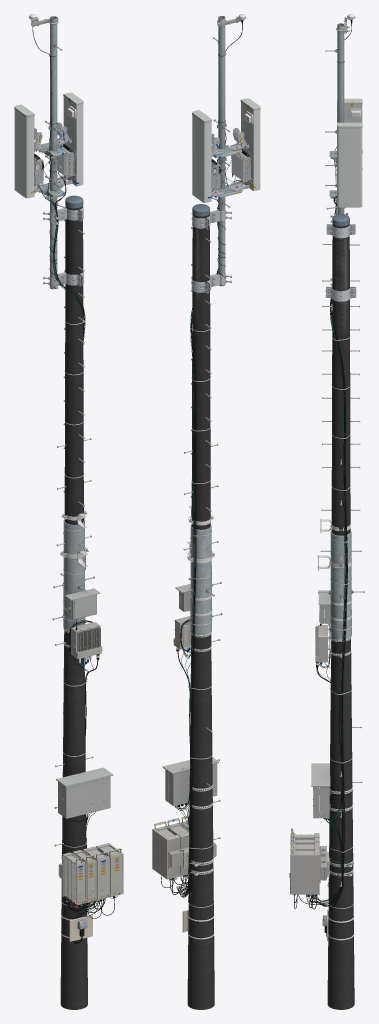
Rendered from Site A001.glb.
3 renders of one model, left to right at view 1: azimuth 30°, elevation 25°; view 2: azimuth 210°, elevation 25°; view 3: azimuth 270°, elevation 25°, orthographic. The views are drawn at different scales.
Visible parts, largest first — view 1: Main _Pole_01, polySurface9658, Radio_Heads, MMT_Box, Cellular_Antenna_02, Upper_Pole, Main _Pole_02, Cellular_Antenna_01, RF_Cable_BOX, Junction_Box, RRU_01; view 2: Main _Pole_01, polySurface9658, Radio_Heads, Main _Pole_02, Cellular_Antenna_01, Upper_Pole, Cellular_Antenna_02, MMT_Box, RRU_02, RF_Cable_BOX, Junction_Box; view 3: Main _Pole_01, polySurface9658, Cellular_Antenna_01, Radio_Heads, Main _Pole_02, MMT_Box, Upper_Pole, RF_Cable_BOX, Junction_Box, Cellular_Antenna_02.
Boxes of the visible parts, x1,y1,x2,y2 form: Main _Pole_01: (60, 206, 87, 1009); polySurface9658: (28, 14, 121, 943); Radio_Heads: (58, 843, 123, 905); MMT_Box: (56, 767, 113, 818); Cellular_Antenna_02: (14, 104, 34, 198); Upper_Pole: (50, 16, 57, 289); Main _Pole_02: (63, 519, 85, 630); Cellular_Antenna_01: (63, 92, 83, 186); RF_Cable_BOX: (71, 622, 102, 659); Junction_Box: (65, 588, 100, 619); RRU_01: (57, 146, 74, 179); Main _Pole_01: (187, 214, 214, 1009); polySurface9658: (161, 14, 253, 939); Radio_Heads: (152, 815, 216, 880); Main _Pole_02: (190, 524, 211, 634); Cellular_Antenna_01: (192, 110, 211, 202); Upper_Pole: (218, 16, 225, 286); Cellular_Antenna_02: (240, 98, 260, 191); MMT_Box: (162, 757, 219, 806); RRU_02: (231, 153, 252, 184); RF_Cable_BOX: (173, 616, 191, 649); Junction_Box: (175, 583, 190, 611); Main _Pole_01: (327, 224, 354, 1009); polySurface9658: (289, 14, 364, 940); Cellular_Antenna_01: (337, 122, 362, 207); Radio_Heads: (290, 828, 329, 895); Main _Pole_02: (330, 530, 351, 639); MMT_Box: (311, 763, 330, 818); Upper_Pole: (337, 23, 344, 214); RF_Cable_BOX: (315, 624, 327, 662); Junction_Box: (318, 590, 330, 623); Cellular_Antenna_02: (337, 98, 362, 122).
Bounding box in the file's own units: 4.52 × 58.23 × 4.08.
5 materials, 5 textured.
